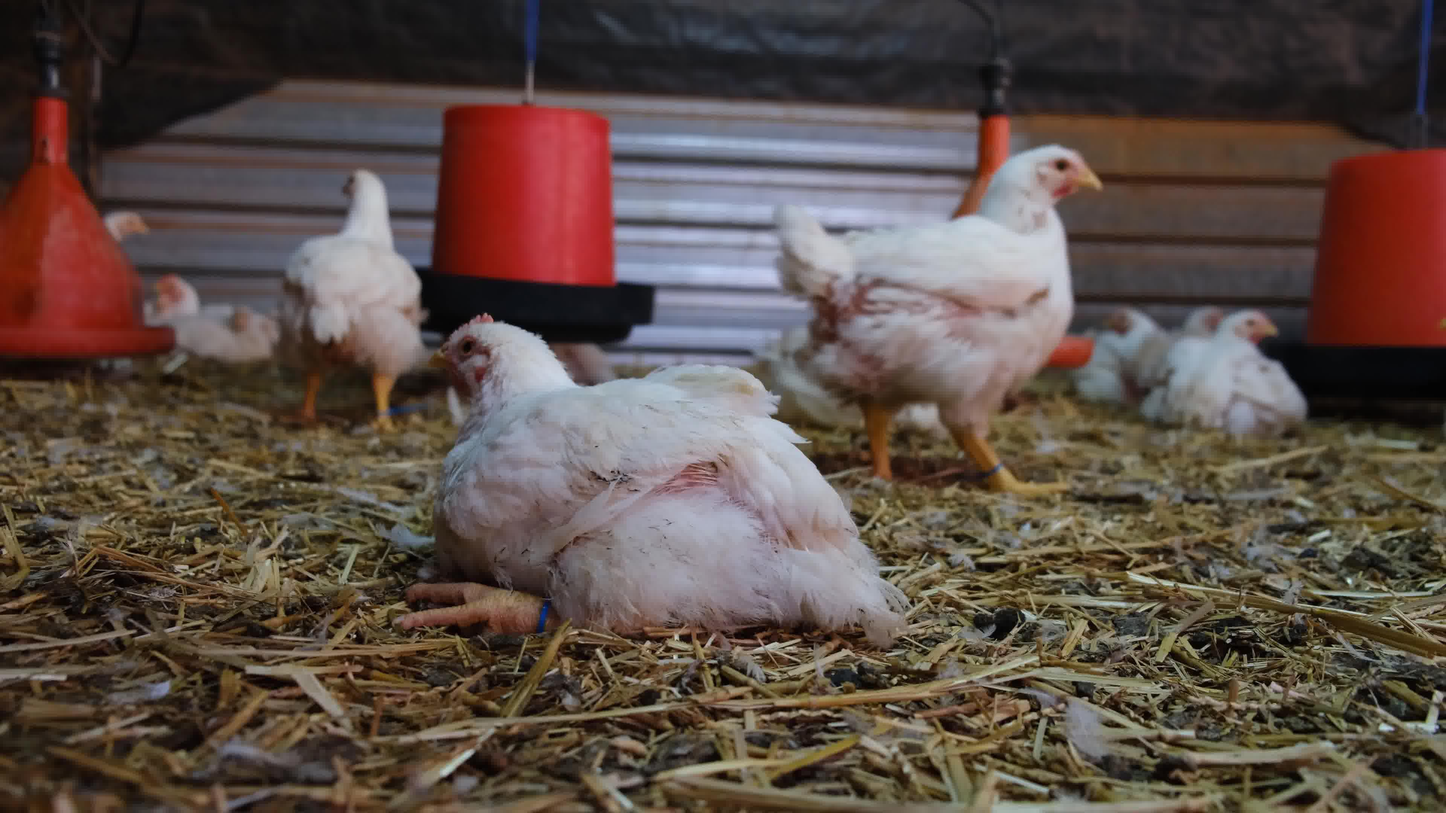AbNormal: (397, 313, 891, 649), (754, 301, 947, 428), (1150, 311, 1309, 434), (142, 271, 281, 372), (1147, 301, 1232, 428), (1081, 292, 1173, 404)
Normal: (772, 140, 1107, 497), (289, 164, 422, 432), (105, 198, 155, 249)
